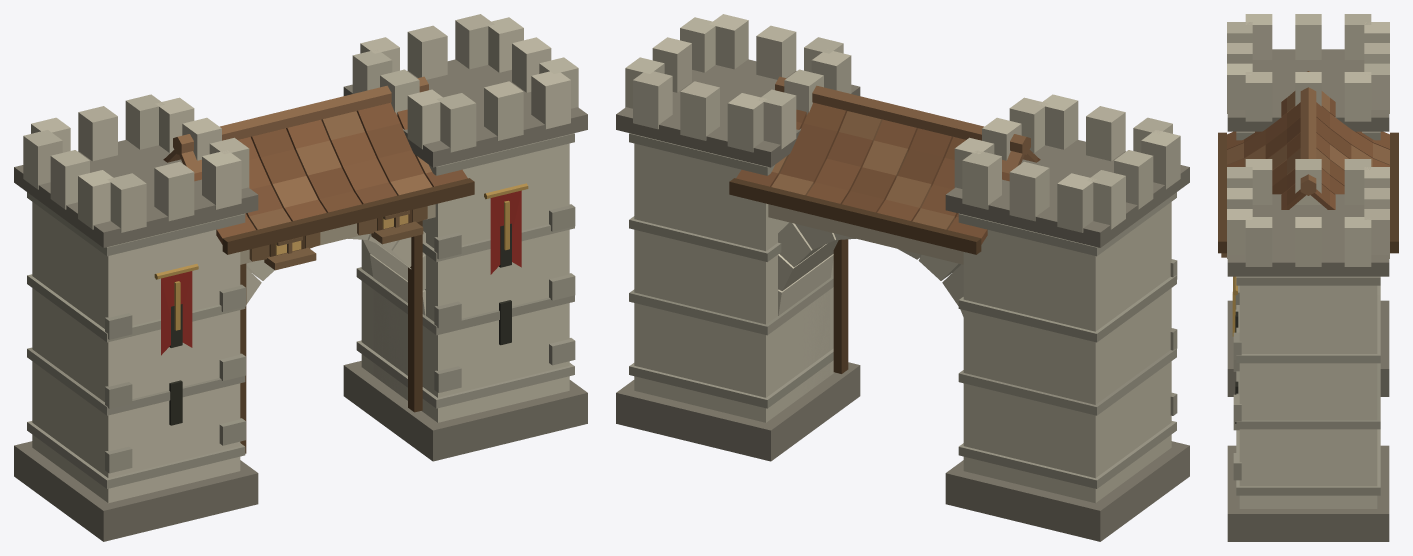
File: gatehouse.glb
3 views of the same model, side by side, from view 1: azimuth 30°, elevation 25°; view 2: azimuth 150°, elevation 25°; view 3: azimuth 270°, elevation 25° (orthographic). The views are drawn at different scales.
Visible parts, largest first — view 1: gatehouse; view 2: gatehouse; view 3: gatehouse.
Part boxes in pixels (left/top/right/bottom): gatehouse: left=14, top=14, right=587, bottom=541; gatehouse: left=616, top=14, right=1189, bottom=541; gatehouse: left=1218, top=14, right=1398, bottom=541.
Size of the model in its own units: 5.9 by 4.04 by 2.11.
